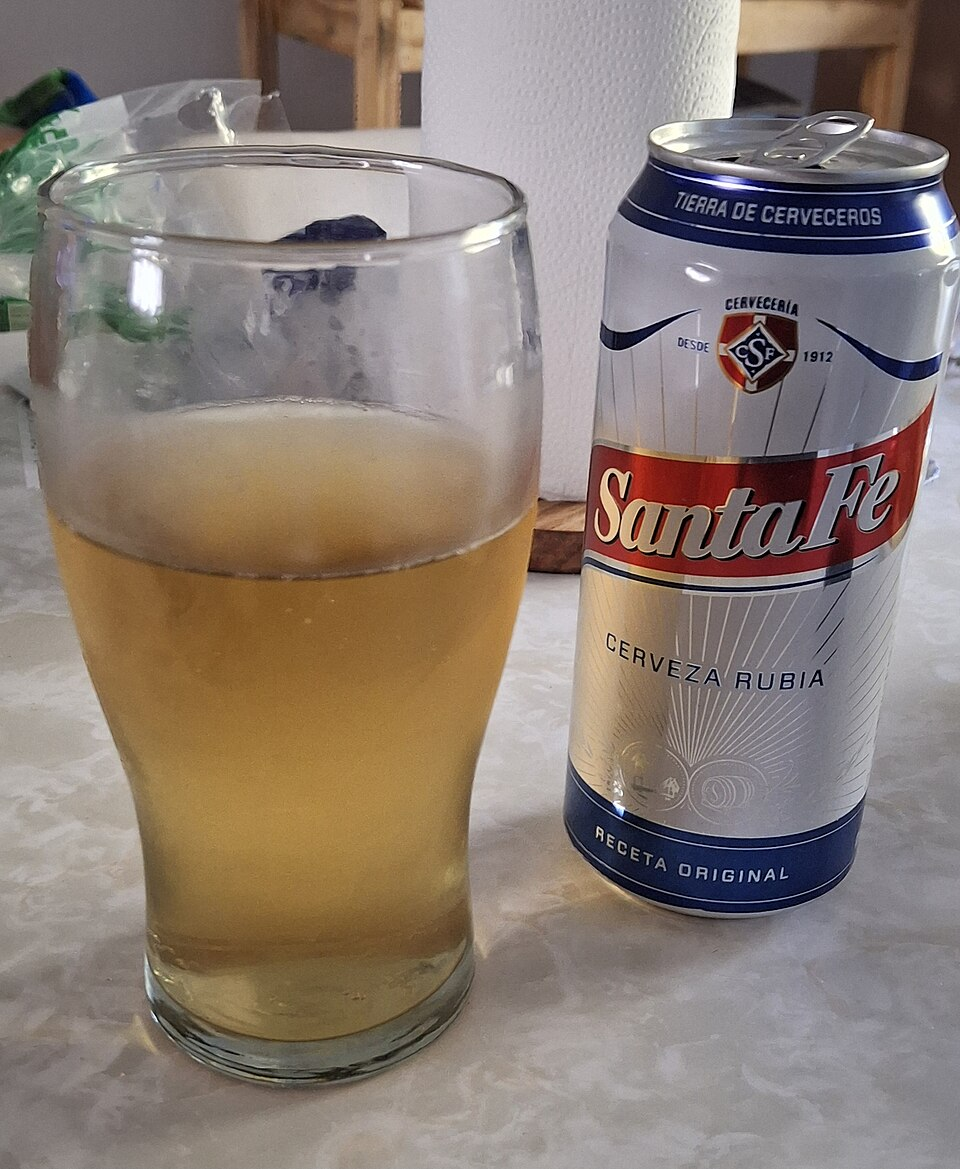beer-can: (553, 105, 957, 944)
